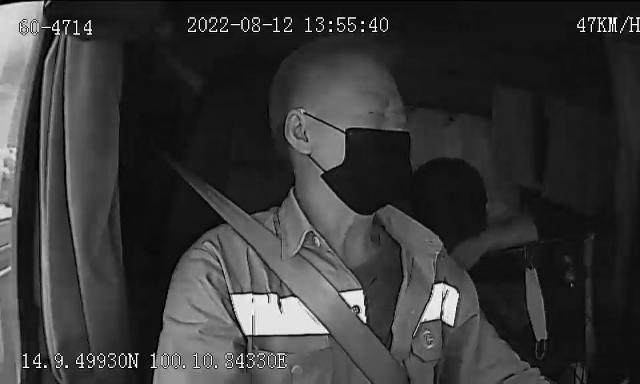Seatbelt: (168, 158, 420, 384)
